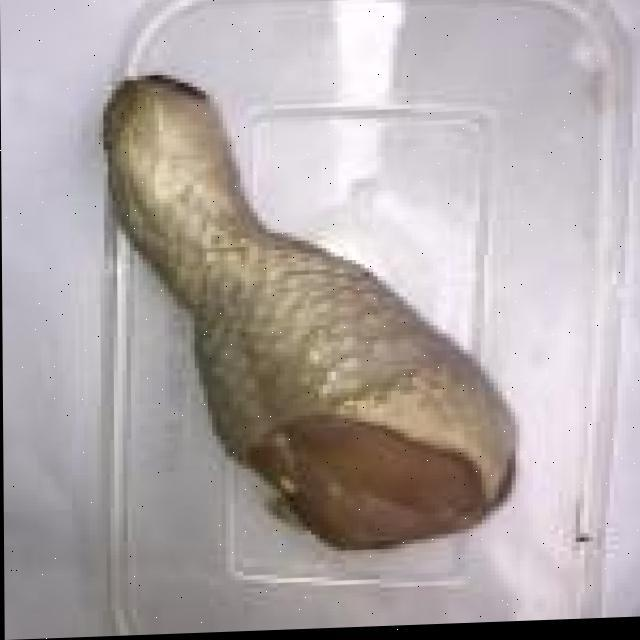leg: (84, 52, 522, 552)
